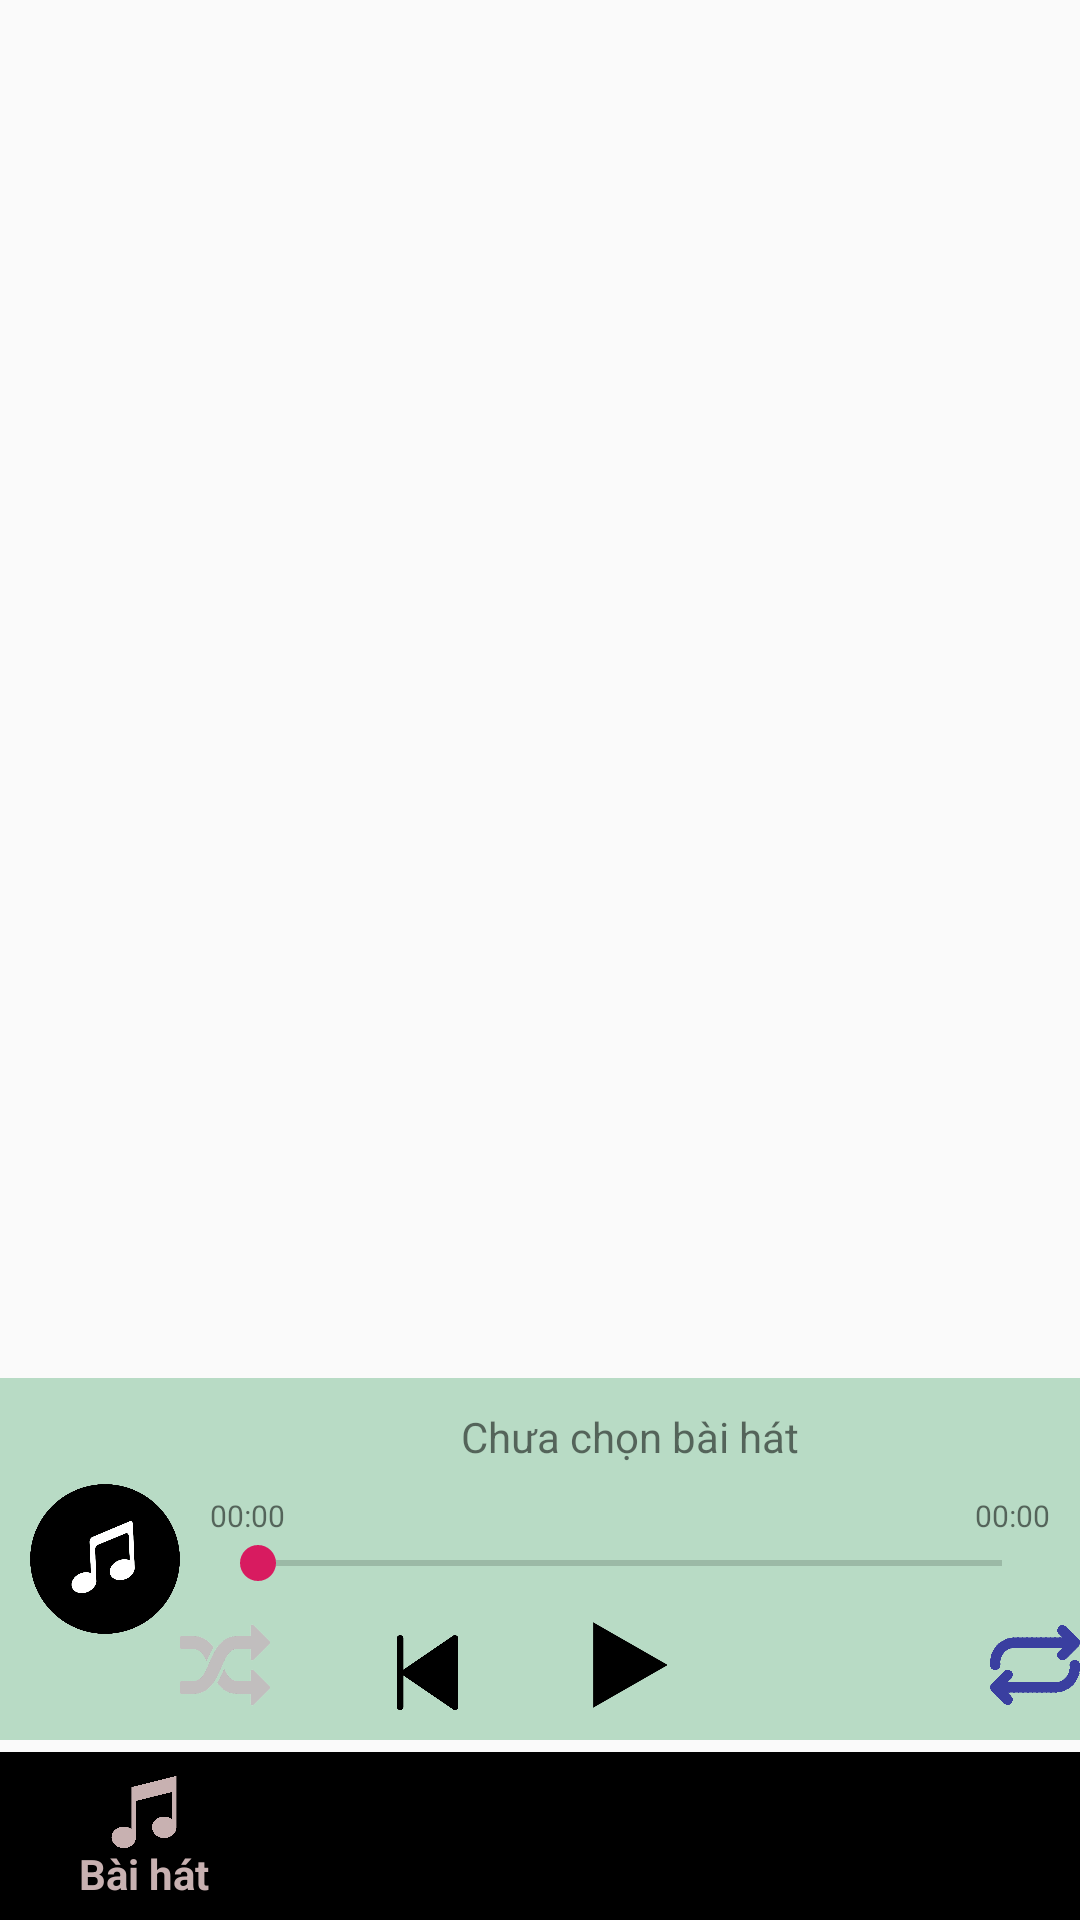

Named icons in this screenshot (1080px×1920px) and their centers, point (x, y):
music: point (105, 1559)
play: point (630, 1665)
prev: point (427, 1672)
random off: point (225, 1665)
repeate: point (1035, 1665)
